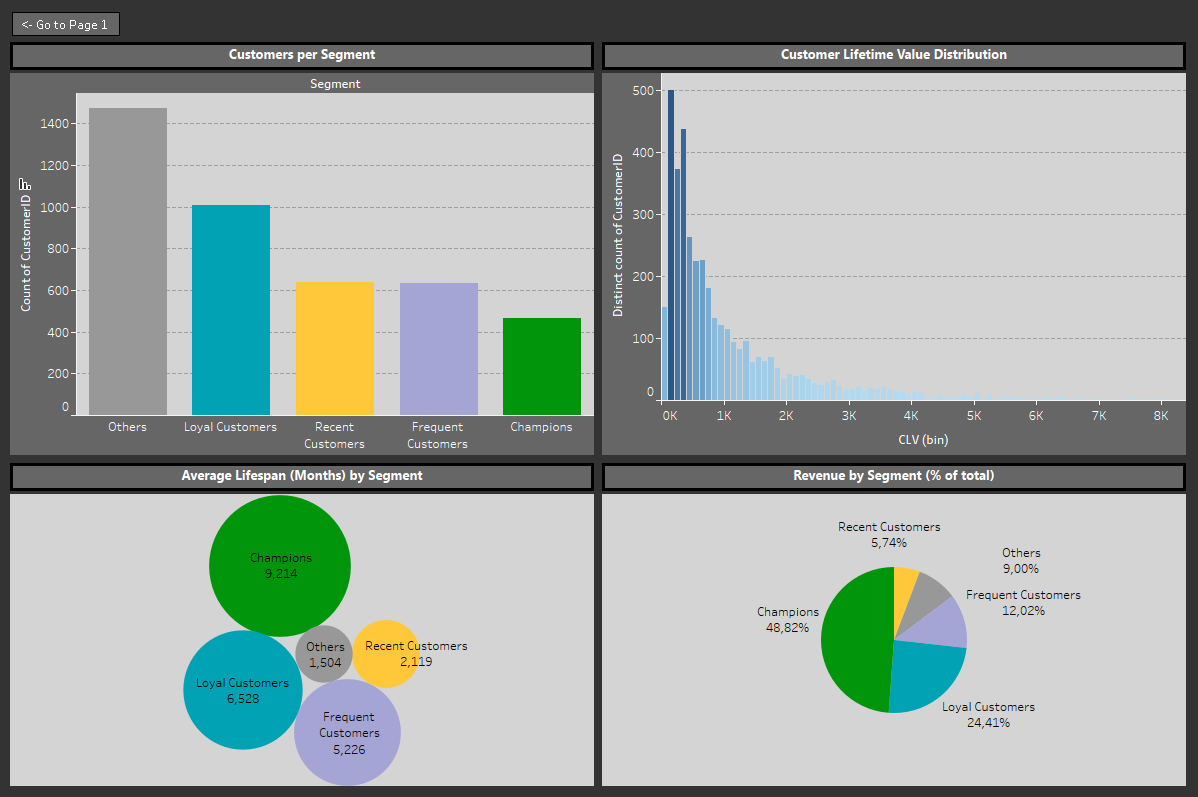

The dashboard page shown, as its layout file describes it:
{"tool":"tableau","page":{"name":"Page 2","canvas":[1200,800],"ordinal":1},"visuals":[{"type":"dashboard-object","box":[10,10,116,32]},{"type":"worksheet","title":"Customers per Segment","mark":"Automatic","rows":["CustomerID"],"cols":["Segment"],"box":[8,40,591.9,421.1]},{"type":"worksheet","title":"Customer Lifetime Value Distribution","mark":"Automatic","rows":["CustomerID"],"cols":["CLV (bin)"],"box":[600,40,592,421.1]},{"type":"worksheet","title":"AVG Lifespan by Segment","mark":"Circle","box":[8,461.1,591.9,330.9]},{"type":"worksheet","title":"Revenue Contribution by Segment (% of total)","mark":"Pie","box":[600,461.1,592,330.9]}]}

Visuals, with their boxes in screenshot pixels (x1, y1, x2, y2), scaled from the page's 1200x800 canvas onto the 1198x797 screenshot:
dashboard-object: rect(10, 10, 126, 42)
"Customers per Segment" worksheet: rect(8, 40, 599, 459)
"Customer Lifetime Value Distribution" worksheet: rect(599, 40, 1190, 459)
"AVG Lifespan by Segment" worksheet (Circle marks): rect(8, 459, 599, 789)
"Revenue Contribution by Segment (% of total)" worksheet (Pie marks): rect(599, 459, 1190, 789)
